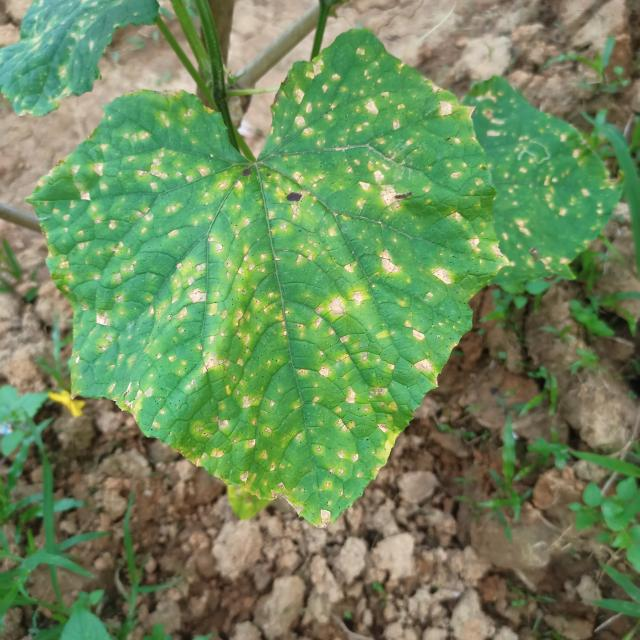disease_cucumber: (54, 58, 486, 498), (475, 84, 607, 274)
